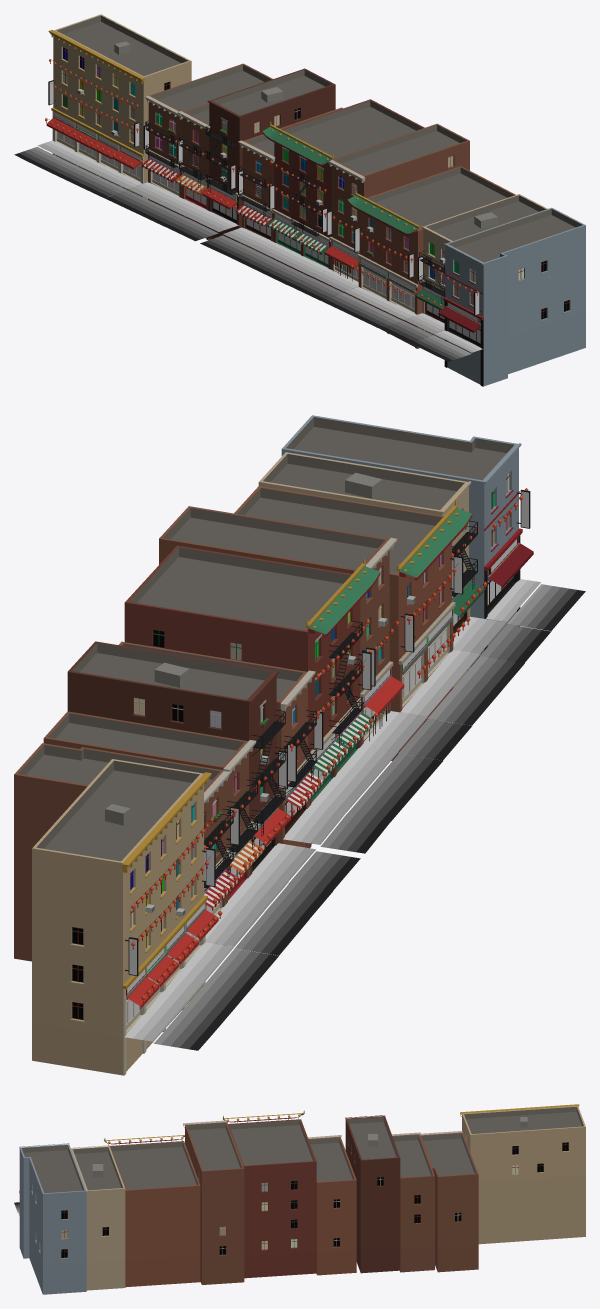
The picture shows the model from 3 angles, top to bottom: view 1: azimuth 30°, elevation 25°; view 2: azimuth 150°, elevation 25°; view 3: azimuth 270°, elevation 25°; orthographic projection. The views are drawn at different scales.
Parts seen in each view (by area): view 1: L0_roof, L0_stucco, L0_brickred, L0_ground, L0_d_metal, L0_stone, L0_d_fabric, L0_cwin, L0_sign, L0_clear, L0_d_stone, L0_rooftile (+6 smaller); view 2: L0_roof, L0_ground, L0_stucco, L0_brickred, L0_d_metal, L0_stone, L0_d_brickred, L0_d_fabric, L0_sign, L0_d_stucco, L0_rooftile, L0_d_stone (+7 smaller); view 3: L0_brickred, L0_roof, L0_stucco, L0_brick, L0_stone, L0_win, L0_d_paint, L0_d_brickred, L0_d_metal, L0_metal.
Boxes of the visible parts, box(x1,y1,x2,y2) form: L0_roof: box(56, 15, 582, 262); L0_stucco: box(53, 36, 585, 386); L0_brickred: box(148, 84, 469, 346); L0_ground: box(14, 140, 482, 361); L0_d_metal: box(47, 41, 497, 347); L0_stone: box(48, 14, 585, 319); L0_d_fabric: box(46, 62, 481, 332); L0_cwin: box(63, 47, 475, 304); L0_sign: box(49, 81, 479, 321); L0_clear: box(57, 131, 480, 343); L0_d_stone: box(52, 59, 483, 386); L0_rooftile: box(262, 127, 419, 233); L0_roof: box(18, 417, 514, 861); L0_ground: box(125, 579, 585, 1050); L0_stucco: box(32, 448, 518, 1075); L0_brickred: box(67, 539, 451, 944); L0_d_metal: box(105, 472, 530, 1032); L0_stone: box(14, 415, 522, 989); L0_d_brickred: box(14, 551, 445, 961); L0_d_fabric: box(126, 500, 533, 1008); L0_sign: box(127, 491, 528, 993); L0_d_stucco: box(130, 449, 511, 950); L0_rooftile: box(307, 508, 471, 634); L0_d_stone: box(122, 489, 520, 1075); L0_brickred: box(125, 1119, 478, 1287); L0_roof: box(22, 1106, 583, 1193); L0_stucco: box(19, 1114, 585, 1294); L0_brick: box(86, 1188, 125, 1290); L0_stone: box(19, 1104, 585, 1193); L0_win: box(61, 1142, 568, 1257); L0_d_paint: box(104, 1113, 303, 1144); L0_d_brickred: box(316, 1168, 437, 1274); L0_d_metal: box(92, 1117, 527, 1177); L0_metal: box(61, 1143, 568, 1257).
Size of the model in its own units: 36 by 21.4 by 86.82.
